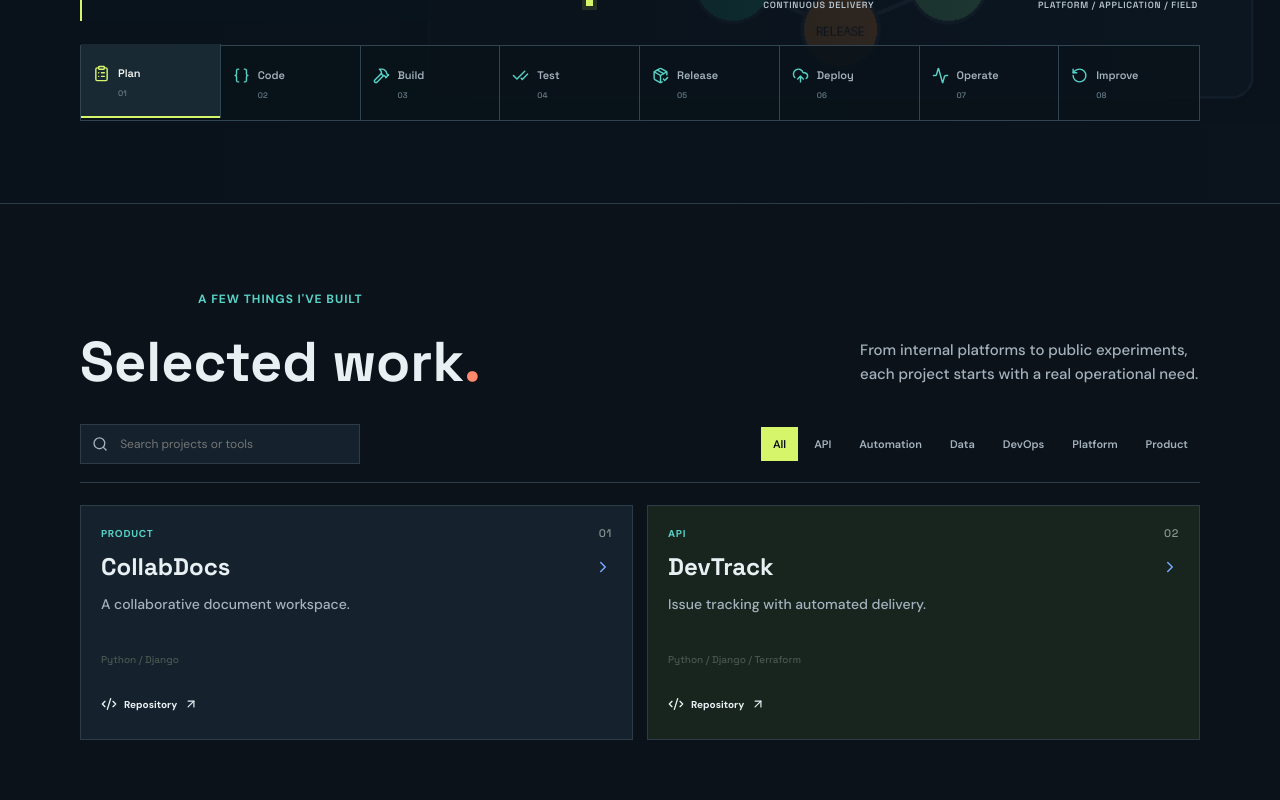
Test: portfolio website › searches and filters projects
This screenshot has width=1280, height=800.
(page scrolled)
expect the button with aria-label "View details for CollabDocs" is shown: met, box [101, 526, 612, 666]
Step 1. Type "DevTrack" into the search field labelled "Search projects" → (233, 444), box [118, 434, 348, 454]
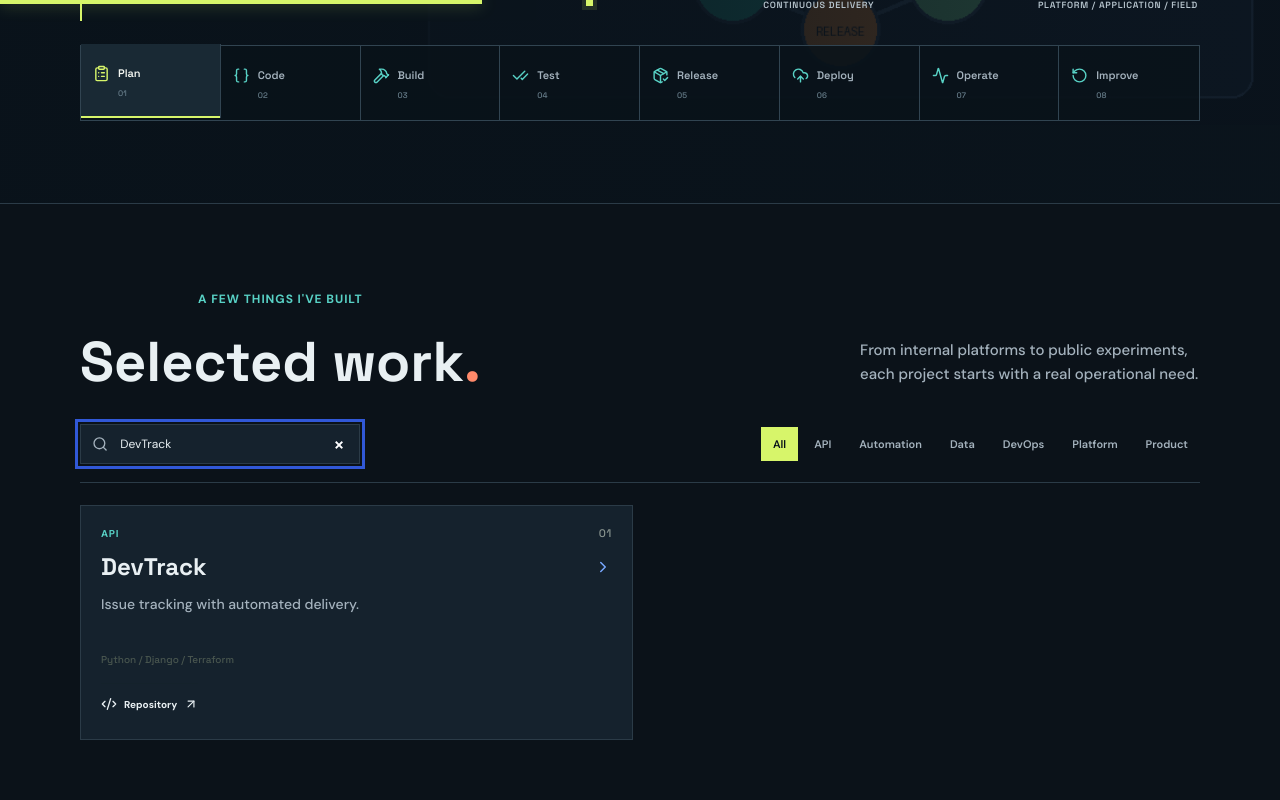
expect the button with aria-label "View details for DevTrack" is shown: met, box [101, 526, 612, 666]
Step 2. Clear the search field named "Search projects" → (233, 444), box [118, 434, 348, 454]
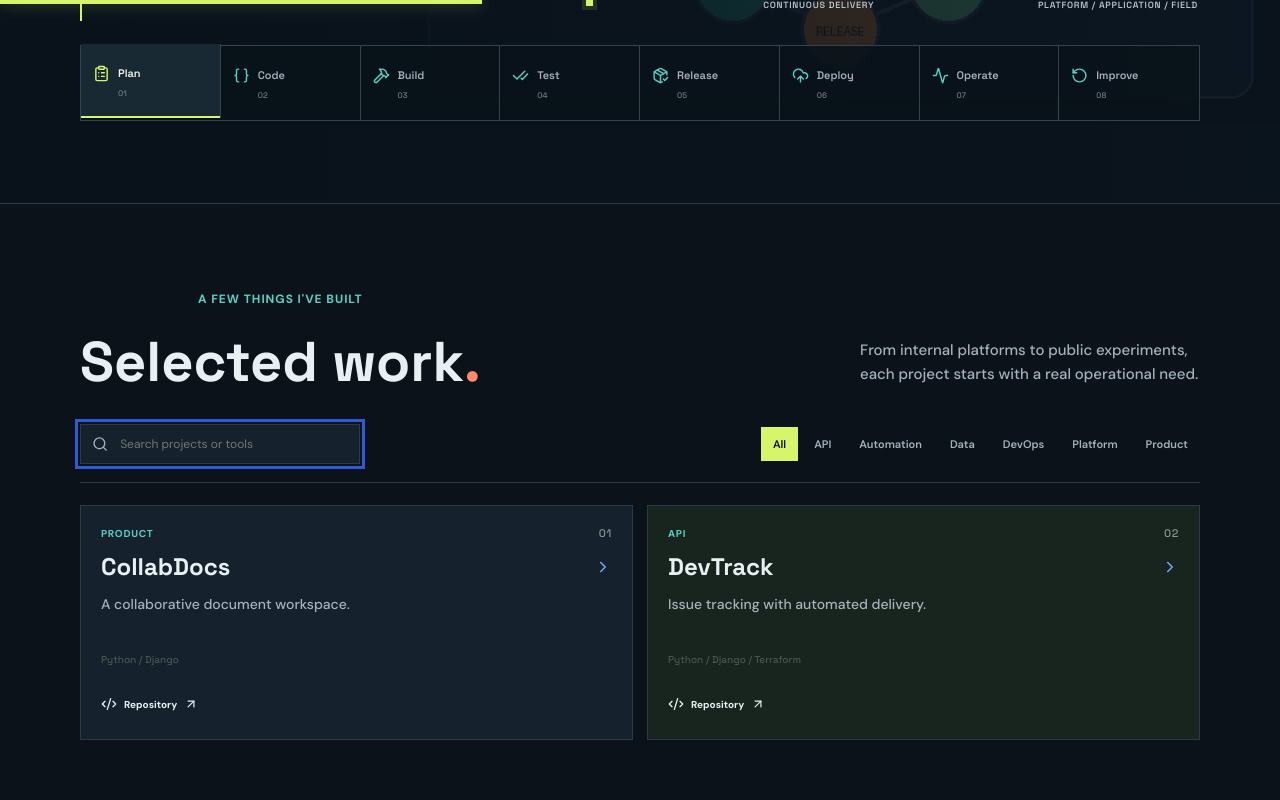
Step 3. Click the button "API" → click(823, 444), box [802, 428, 843, 462]
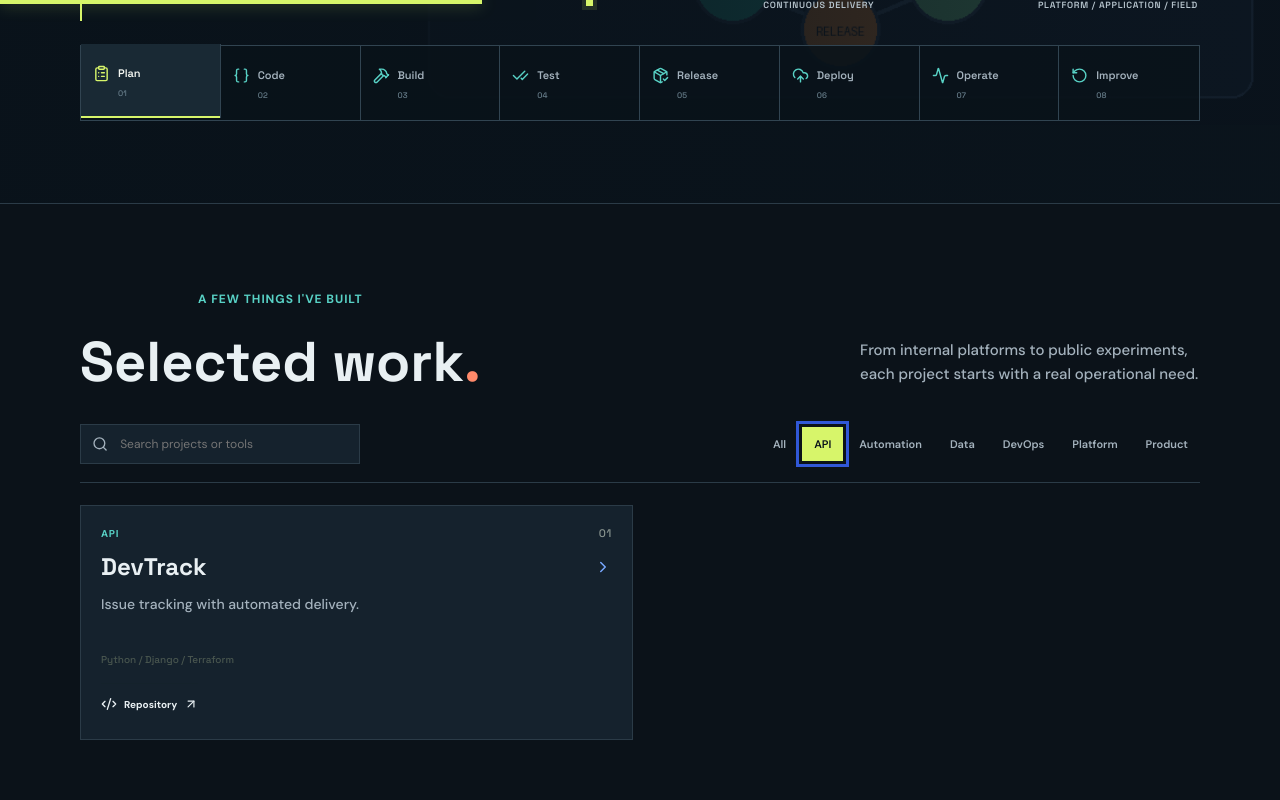
expect the button with aria-label "View details for DevTrack" is shown: met, box [101, 526, 612, 666]
